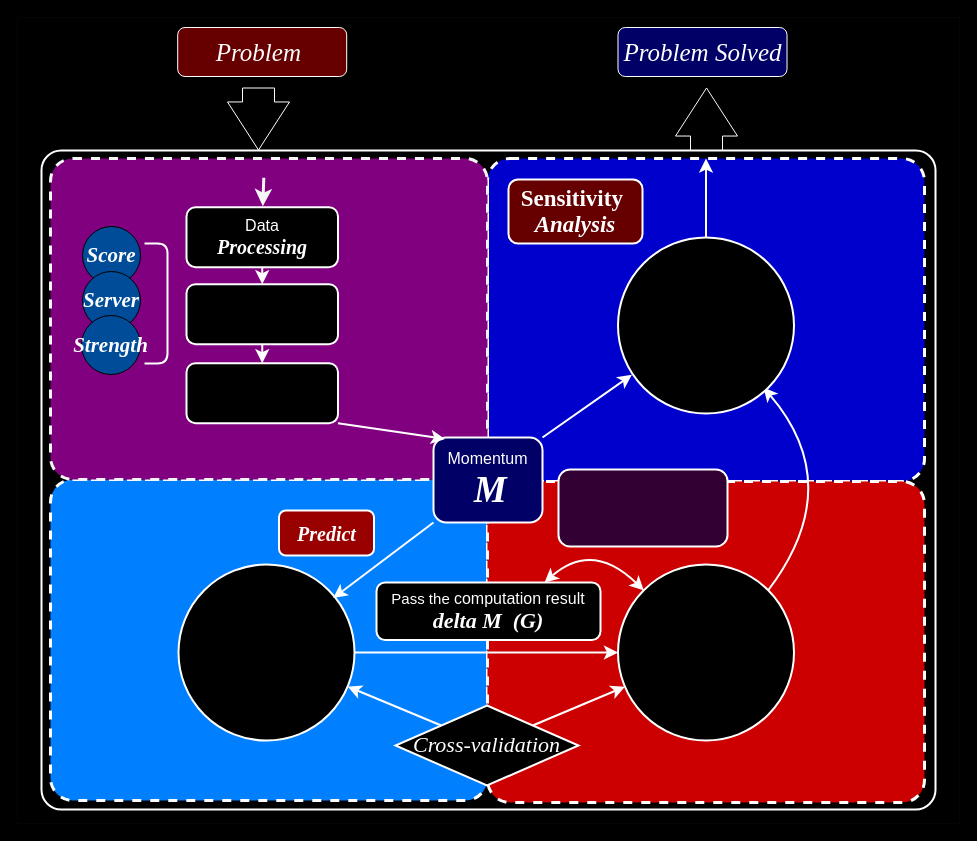
The diagram is 977 pixels wide and 841 high, and some of its shapes have lost their labels. The shapes that lost their labels are listed below. From the top down, each one's centre as x and y in pixels, then its label:
At [261,314]: "Data Exploration".
At [705,325]: "Adjusting model Parameters based on real-world conditions".
At [261,393]: "Data Quantify".
At [642,507]: "Finding (G) 's relationship with independent variables".
At [266,652]: "ARIMA AutoRegressive Integrated Moving Average model".
At [705,652]: "Bayesian Spatiotemporal model".
